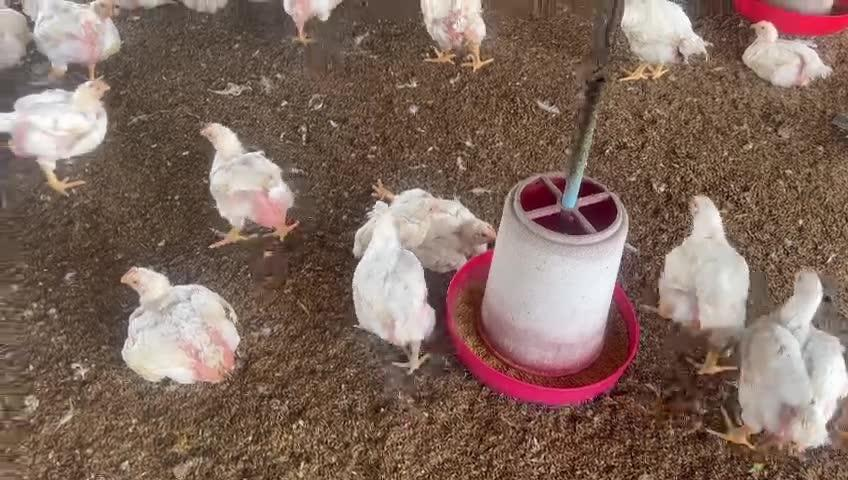AbNormal: (121, 266, 233, 372), (376, 178, 490, 268), (739, 18, 828, 87), (354, 193, 438, 260)
Normal: (743, 269, 848, 455), (659, 194, 750, 372), (352, 198, 433, 372), (0, 78, 110, 196), (200, 123, 299, 242), (35, 0, 121, 79), (618, 0, 705, 77), (418, 0, 493, 70), (281, 0, 348, 42), (0, 10, 31, 64)
